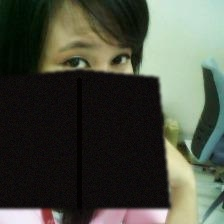Cadar_Niqab: (0, 0, 170, 208)
